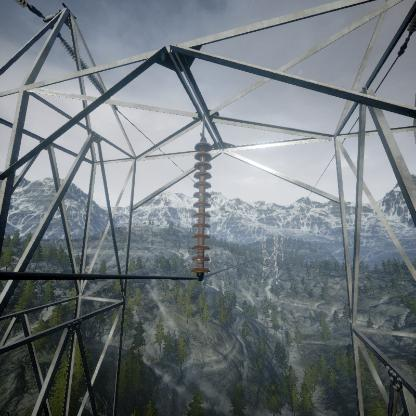insulator: (191, 137, 211, 277)
